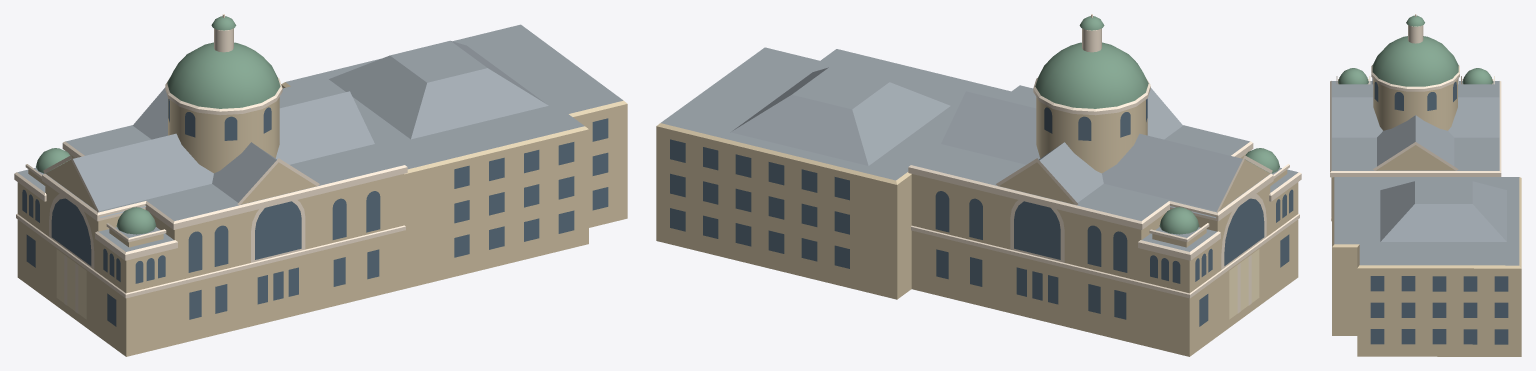
The model's file is mcglohon-theater-spirit-square.glb.
The picture shows the model from 3 angles, left to right: view 1: azimuth 30°, elevation 25°; view 2: azimuth 150°, elevation 25°; view 3: azimuth 270°, elevation 25°; orthographic projection. The views are drawn at different scales.
Visible parts, largest first — view 1: McGlohon Theater at Spirit Square; view 2: McGlohon Theater at Spirit Square; view 3: McGlohon Theater at Spirit Square.
Part boxes in pixels (<box>): McGlohon Theater at Spirit Square: <box>14,14,627,356</box>; McGlohon Theater at Spirit Square: <box>656,14,1301,356</box>; McGlohon Theater at Spirit Square: <box>1330,14,1521,356</box>.
Bounding box in the file's own units: 60.38 × 29.4 × 24.99.
